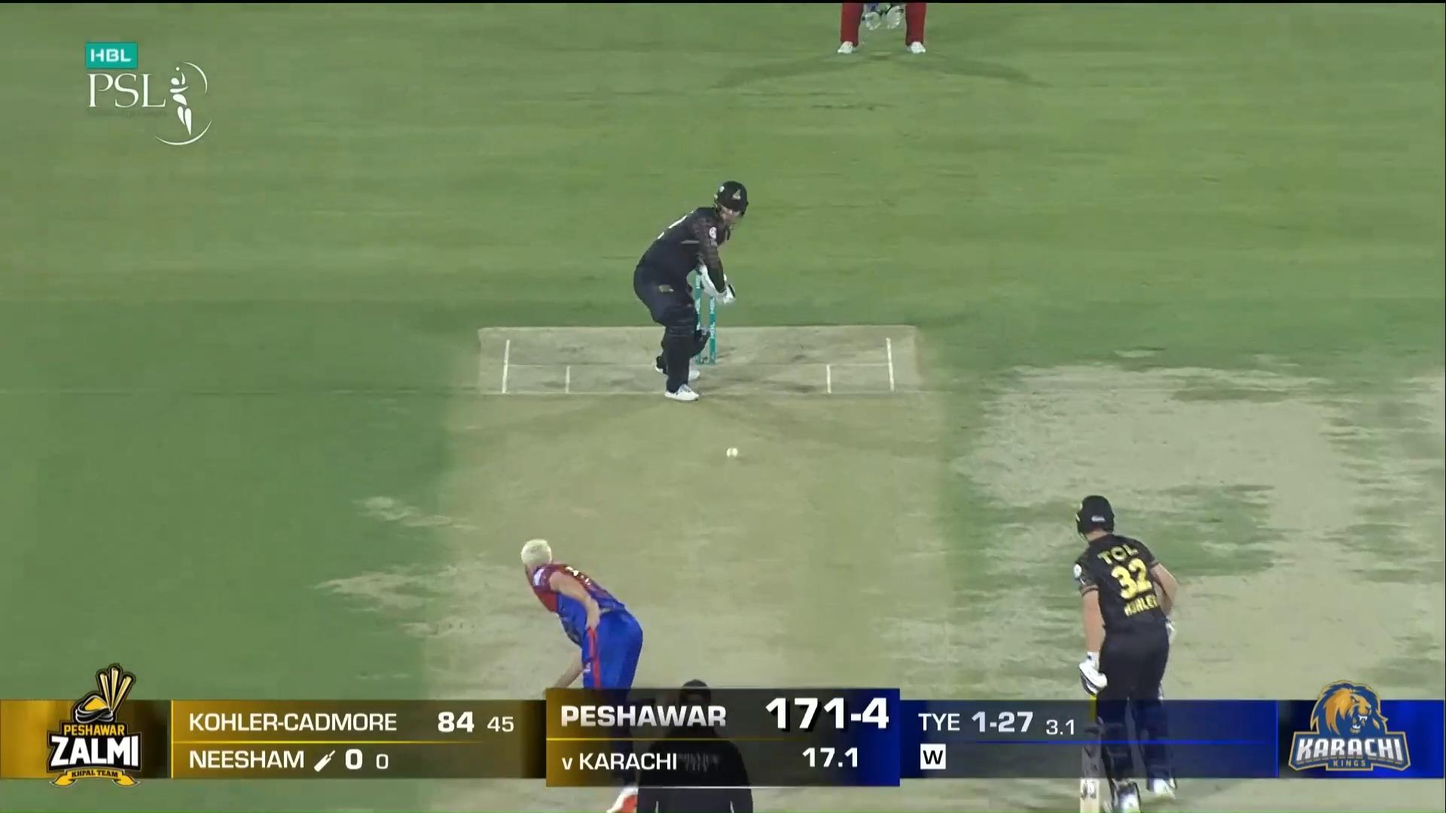batsman: (633, 181, 750, 402)
